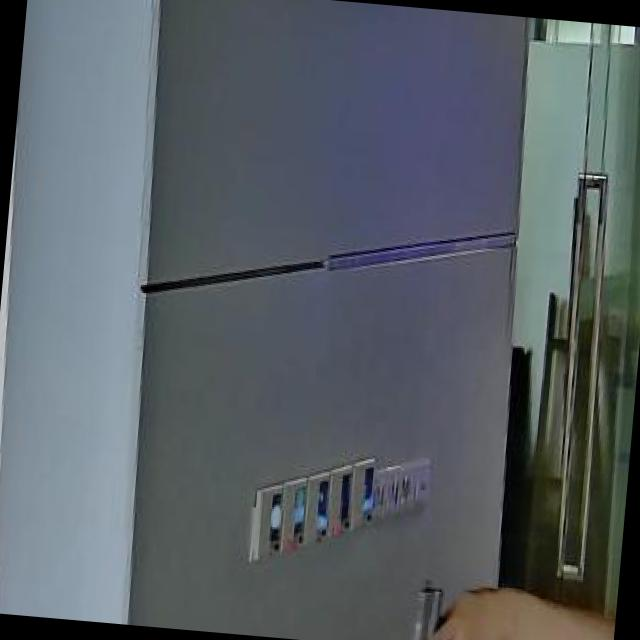Guns: (390, 550, 476, 640)
